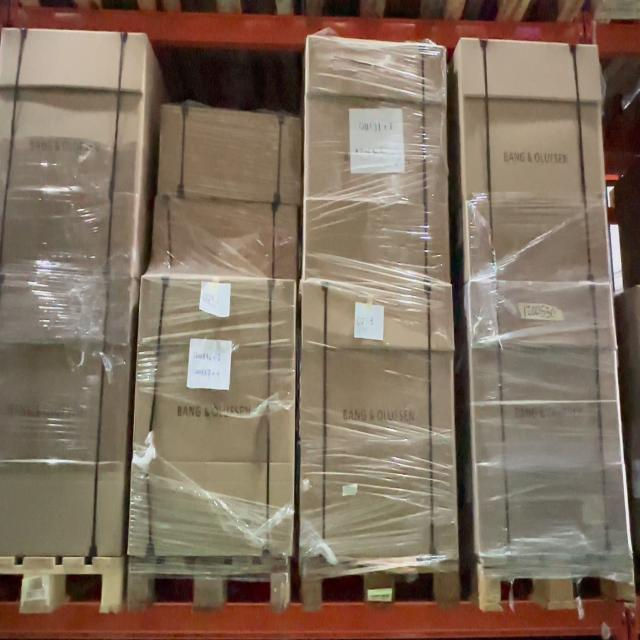box: (127, 278, 296, 557), (468, 278, 632, 558), (299, 280, 458, 554), (460, 38, 613, 287), (303, 34, 451, 284), (157, 105, 301, 204), (147, 197, 299, 280)
